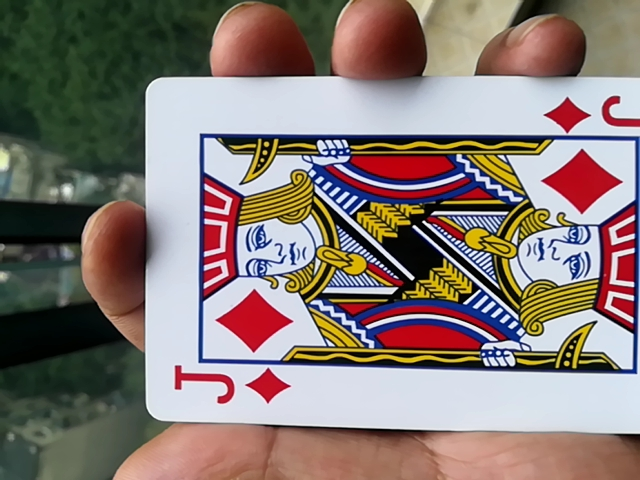fk j: (129, 93, 637, 441)
